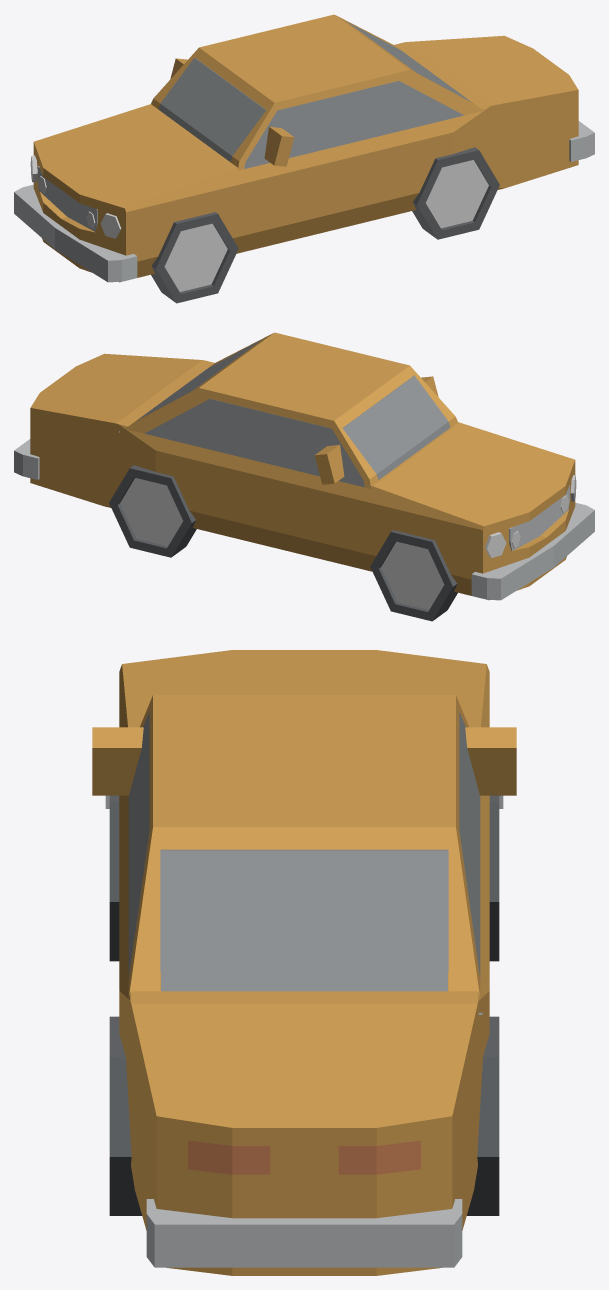
Rendered from car4.glb.
3 renders of one model, top to bottom at view 1: azimuth 30°, elevation 25°; view 2: azimuth 150°, elevation 25°; view 3: azimuth 270°, elevation 25°, orthographic. The views are drawn at different scales.
Parts seen in each view (by area): view 1: Mesh_Mesh_head_geo.001_lambert2SG.001; view 2: Mesh_Mesh_head_geo.001_lambert2SG.001; view 3: Mesh_Mesh_head_geo.001_lambert2SG.001.
Boxes of the visible parts, x1,y1,x2,y2 form: Mesh_Mesh_head_geo.001_lambert2SG.001: [14, 14, 594, 303]; Mesh_Mesh_head_geo.001_lambert2SG.001: [14, 332, 594, 621]; Mesh_Mesh_head_geo.001_lambert2SG.001: [92, 650, 516, 1275].
Bounding box in the file's own units: 9.49 × 3 × 3.47.
